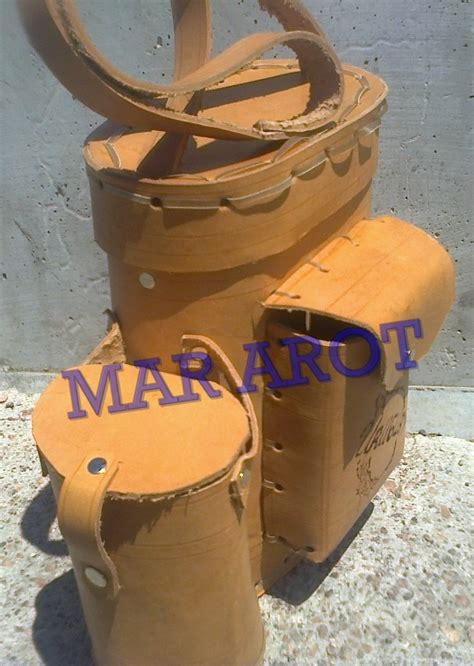cuero: (18, 1, 453, 666)
